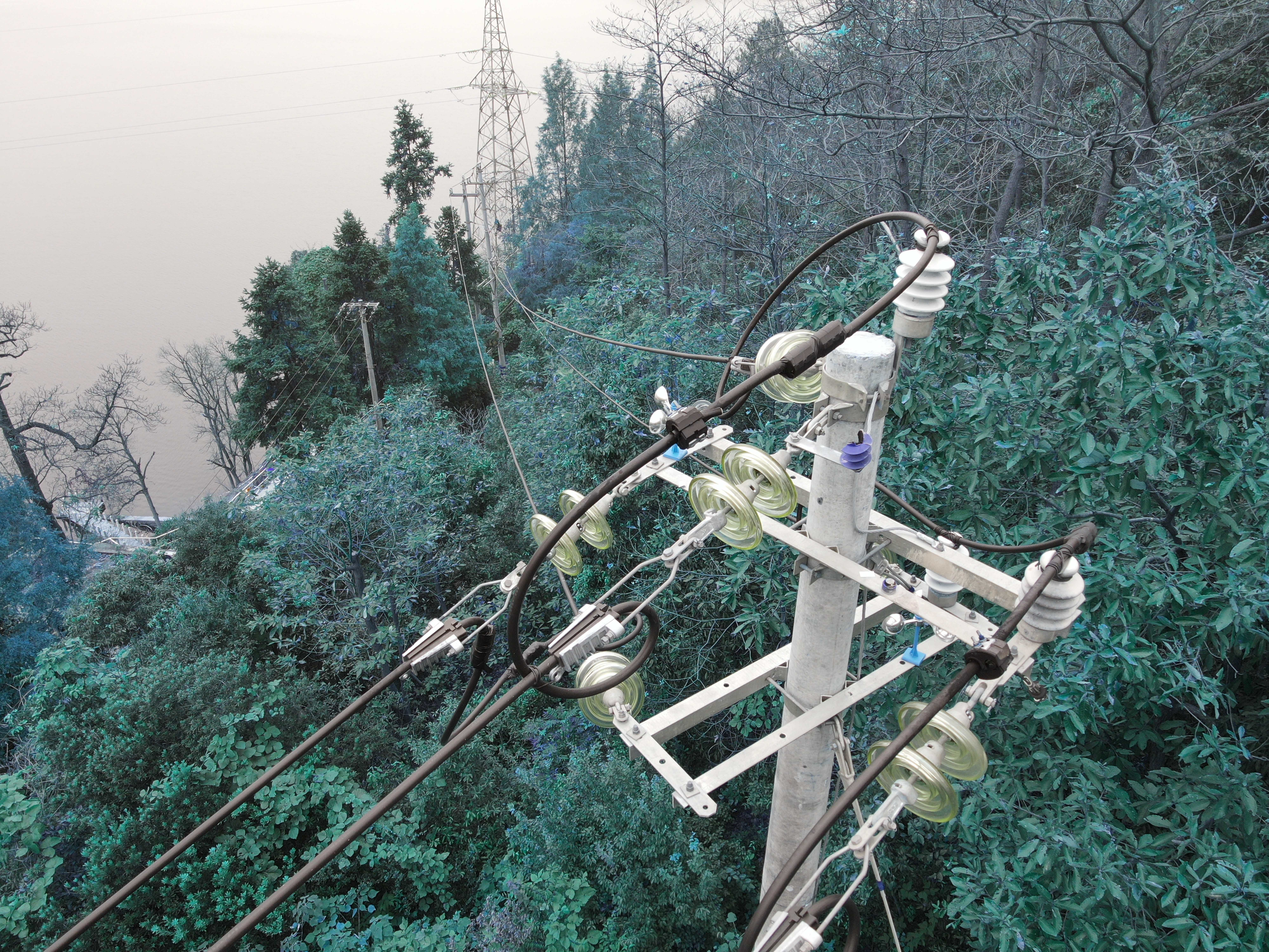severe_soiling_no_discharge_whole: (1013, 548, 1087, 648)
